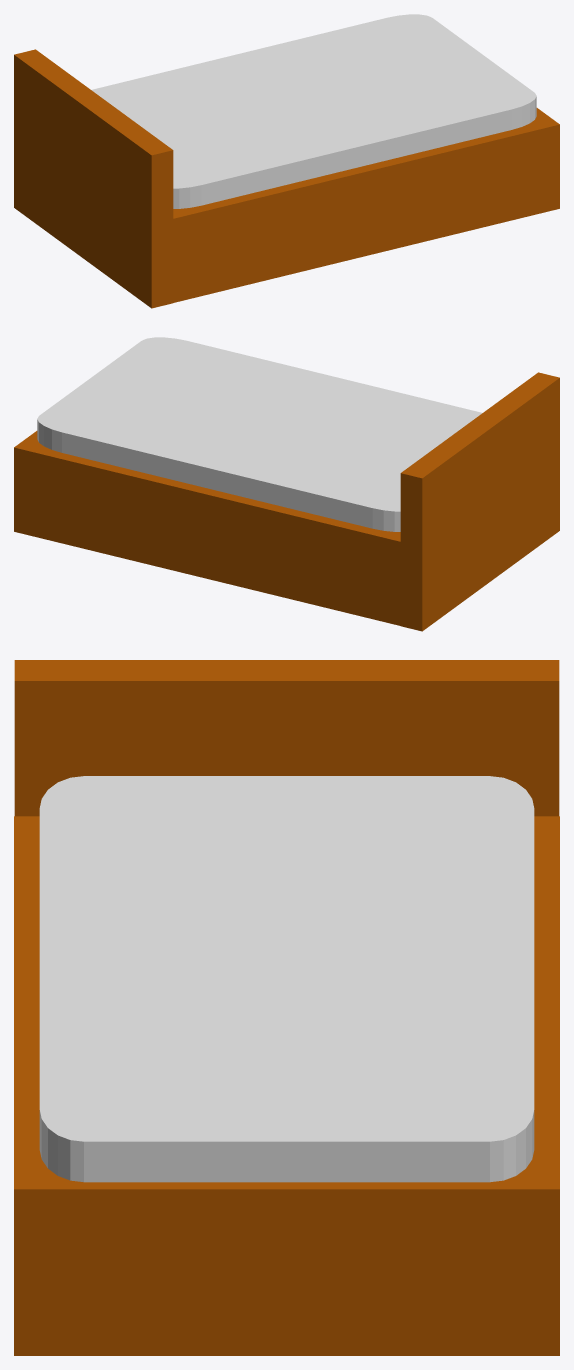
The model's file is NewBed.fbx.
3 views of the same model, one above another, from view 1: azimuth 30°, elevation 25°; view 2: azimuth 150°, elevation 25°; view 3: azimuth 270°, elevation 25° (orthographic). The views are drawn at different scales.
Parts seen in each view (by area): view 1: Wall.078, Mattress'; view 2: Wall.078, Mattress'; view 3: Mattress', Wall.078.
Part boxes in pixels (<box>): Wall.078: <box>14,49,559,308</box>; Mattress': <box>91,14,536,208</box>; Wall.078: <box>14,372,559,631</box>; Mattress': <box>37,337,482,531</box>; Mattress': <box>39,776,534,1182</box>; Wall.078: <box>14,660,559,1355</box>.
Size of the model in its own units: 1466 by 526 by 859.
